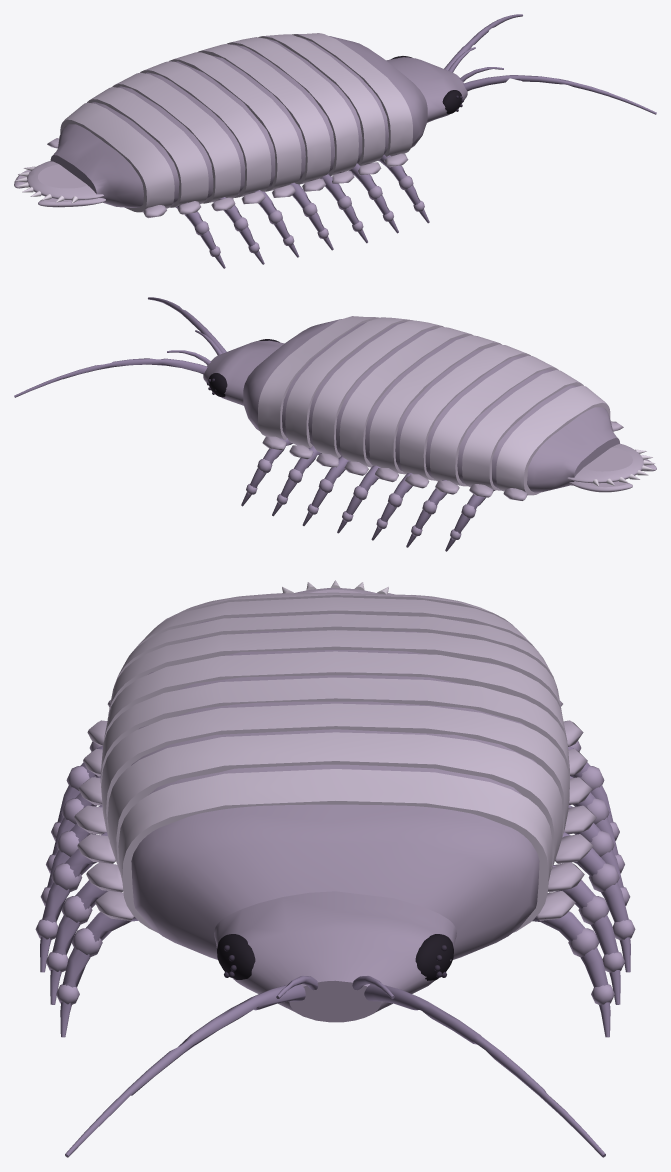
Rendered from isopod.glb.
3 renders of one model, top to bottom at view 1: azimuth 30°, elevation 25°; view 2: azimuth 150°, elevation 25°; view 3: azimuth 270°, elevation 25°, orthographic. The views are drawn at different scales.
Visible parts, largest first — view 1: Plates, Shell, Legs, Tail, Lappets, Antennae, Joints, Eyes, Spikes; view 2: Plates, Shell, Legs, Lappets, Tail, Antennae, Joints, Eyes; view 3: Plates, Shell, Legs, Joints, Lappets, Antennae, Eyes.
Part boxes in pixels (x1,y1,x2,y2): Plates: (60, 33, 412, 212); Shell: (50, 36, 467, 207); Legs: (175, 154, 429, 268); Tail: (14, 161, 105, 207); Lappets: (47, 138, 408, 218); Antennae: (444, 14, 656, 114); Joints: (194, 175, 424, 257); Eyes: (390, 56, 461, 114); Spikes: (15, 166, 77, 203); Plates: (258, 316, 610, 495); Shell: (203, 319, 619, 492); Legs: (241, 438, 495, 551); Lappets: (262, 421, 623, 500); Tail: (567, 443, 656, 492); Antennae: (14, 297, 226, 397); Joints: (246, 459, 476, 540); Eyes: (209, 339, 279, 397); Plates: (100, 592, 569, 932); Shell: (131, 613, 539, 1022); Legs: (40, 745, 630, 1037); Joints: (35, 741, 635, 1005); Lappets: (74, 700, 596, 920); Antennae: (65, 976, 605, 1157); Eyes: (217, 934, 453, 980).
Size of the model in its own units: 0.1366 by 0.0293 by 0.0625.
